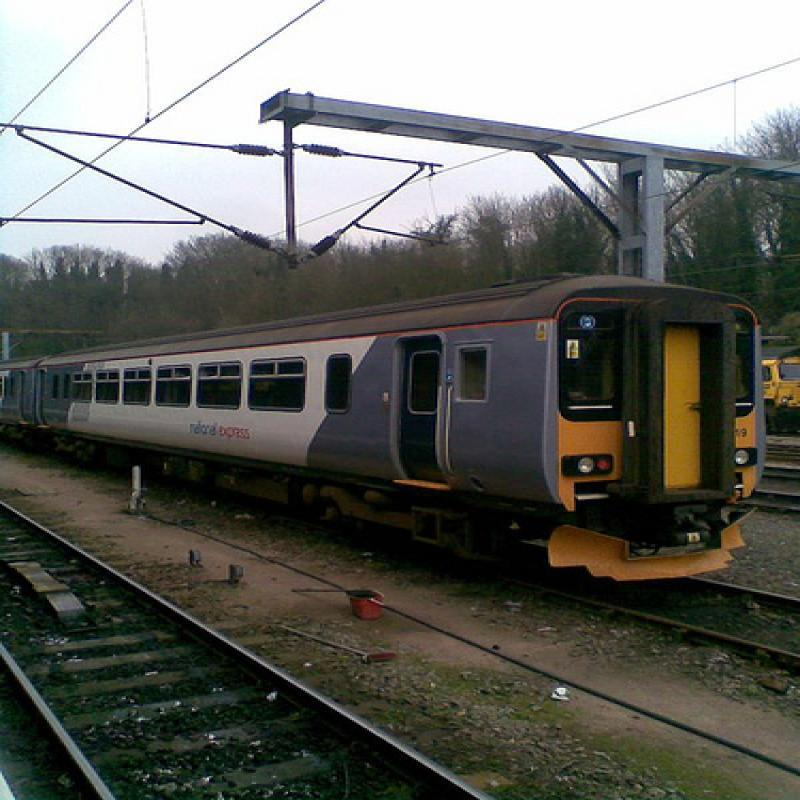train: (1, 277, 767, 584)
